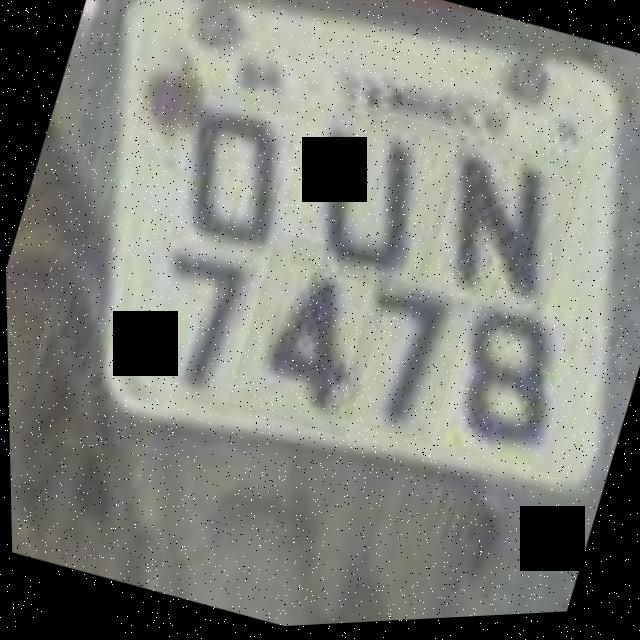4: (221, 230, 399, 447)
7: (109, 210, 280, 418), (330, 275, 474, 453)
8: (415, 285, 590, 504)
N: (408, 134, 588, 341)
O: (152, 74, 325, 276)
U: (286, 100, 470, 308)
